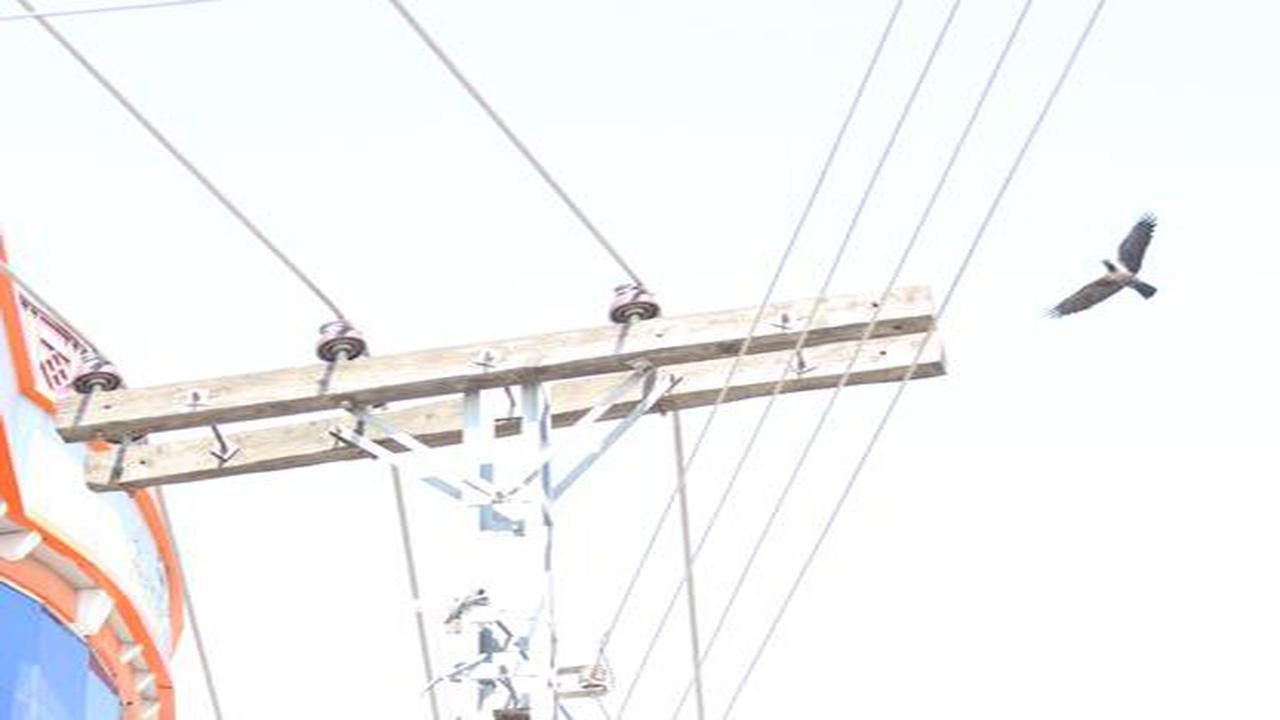insulator_pin: (604, 276, 666, 324), (69, 348, 129, 395), (312, 313, 367, 364)
